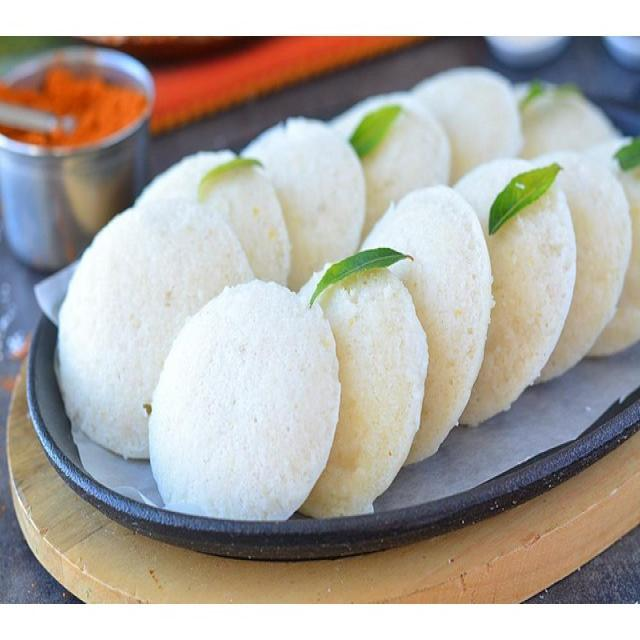idli: (57, 192, 253, 468), (418, 145, 580, 432), (148, 276, 335, 520), (348, 177, 491, 464), (126, 145, 294, 383), (286, 259, 430, 513), (224, 114, 370, 334), (312, 87, 456, 261), (404, 63, 524, 221)
